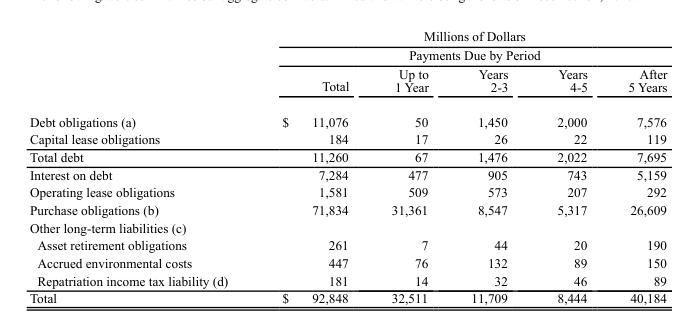table: (28, 28, 666, 305)
table column: (28, 28, 254, 305), (254, 28, 369, 305), (449, 28, 531, 305), (369, 28, 449, 305), (531, 28, 607, 305), (607, 28, 666, 305)
table column header: (28, 28, 666, 103)
table projected row header: (28, 218, 666, 236)
table row: (28, 64, 666, 103), (28, 28, 666, 64), (28, 103, 666, 130), (28, 147, 666, 165), (28, 165, 666, 183), (28, 200, 666, 218), (28, 218, 666, 236), (28, 253, 666, 271), (28, 271, 666, 289), (28, 130, 666, 147), (28, 183, 666, 200), (28, 236, 666, 253), (28, 289, 666, 305)
table spanning cell: (254, 28, 666, 64)
